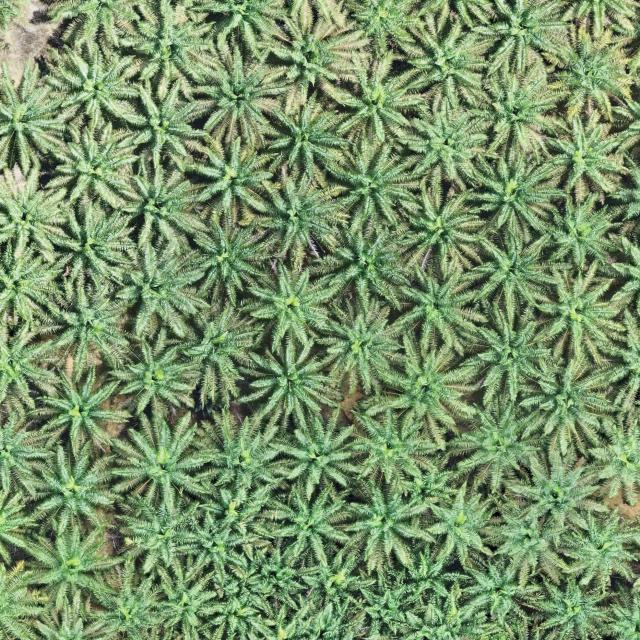Tree: (366, 337, 484, 452), (261, 0, 375, 111), (175, 39, 287, 148), (5, 520, 124, 620), (102, 412, 212, 520), (526, 262, 632, 374), (466, 53, 574, 158), (108, 236, 210, 341), (452, 302, 552, 409), (235, 334, 338, 436), (309, 136, 418, 231), (325, 45, 425, 148), (386, 15, 486, 118), (448, 148, 565, 236), (394, 256, 492, 361), (28, 275, 134, 372), (172, 297, 265, 407), (307, 293, 404, 398), (241, 255, 343, 354), (505, 448, 613, 540), (544, 17, 639, 121), (168, 209, 268, 307), (518, 359, 609, 465), (398, 92, 498, 188), (12, 442, 117, 533), (108, 484, 206, 581), (106, 157, 193, 266), (340, 400, 445, 490), (389, 182, 488, 276), (120, 74, 213, 174), (538, 107, 638, 200), (316, 220, 412, 316), (477, 493, 572, 590), (42, 115, 136, 213), (32, 363, 131, 456), (454, 225, 558, 313), (342, 483, 442, 574), (172, 130, 275, 218), (465, 0, 578, 79), (255, 91, 347, 188), (41, 37, 141, 126), (47, 197, 142, 290), (451, 397, 540, 496), (118, 0, 219, 85), (187, 410, 286, 496), (0, 61, 69, 183), (264, 408, 358, 494), (102, 331, 197, 416), (525, 553, 616, 640), (534, 185, 628, 268), (0, 304, 65, 424), (550, 507, 640, 592), (0, 165, 73, 268), (265, 483, 351, 567), (423, 478, 500, 571), (239, 179, 315, 265), (0, 237, 68, 331), (188, 0, 288, 63), (175, 508, 254, 586), (38, 0, 152, 54), (458, 554, 542, 625), (235, 538, 311, 613), (586, 308, 640, 413), (293, 548, 378, 613), (91, 573, 167, 640), (340, 0, 432, 55), (584, 416, 640, 505), (195, 483, 279, 542), (151, 573, 221, 634), (542, 0, 640, 40)
